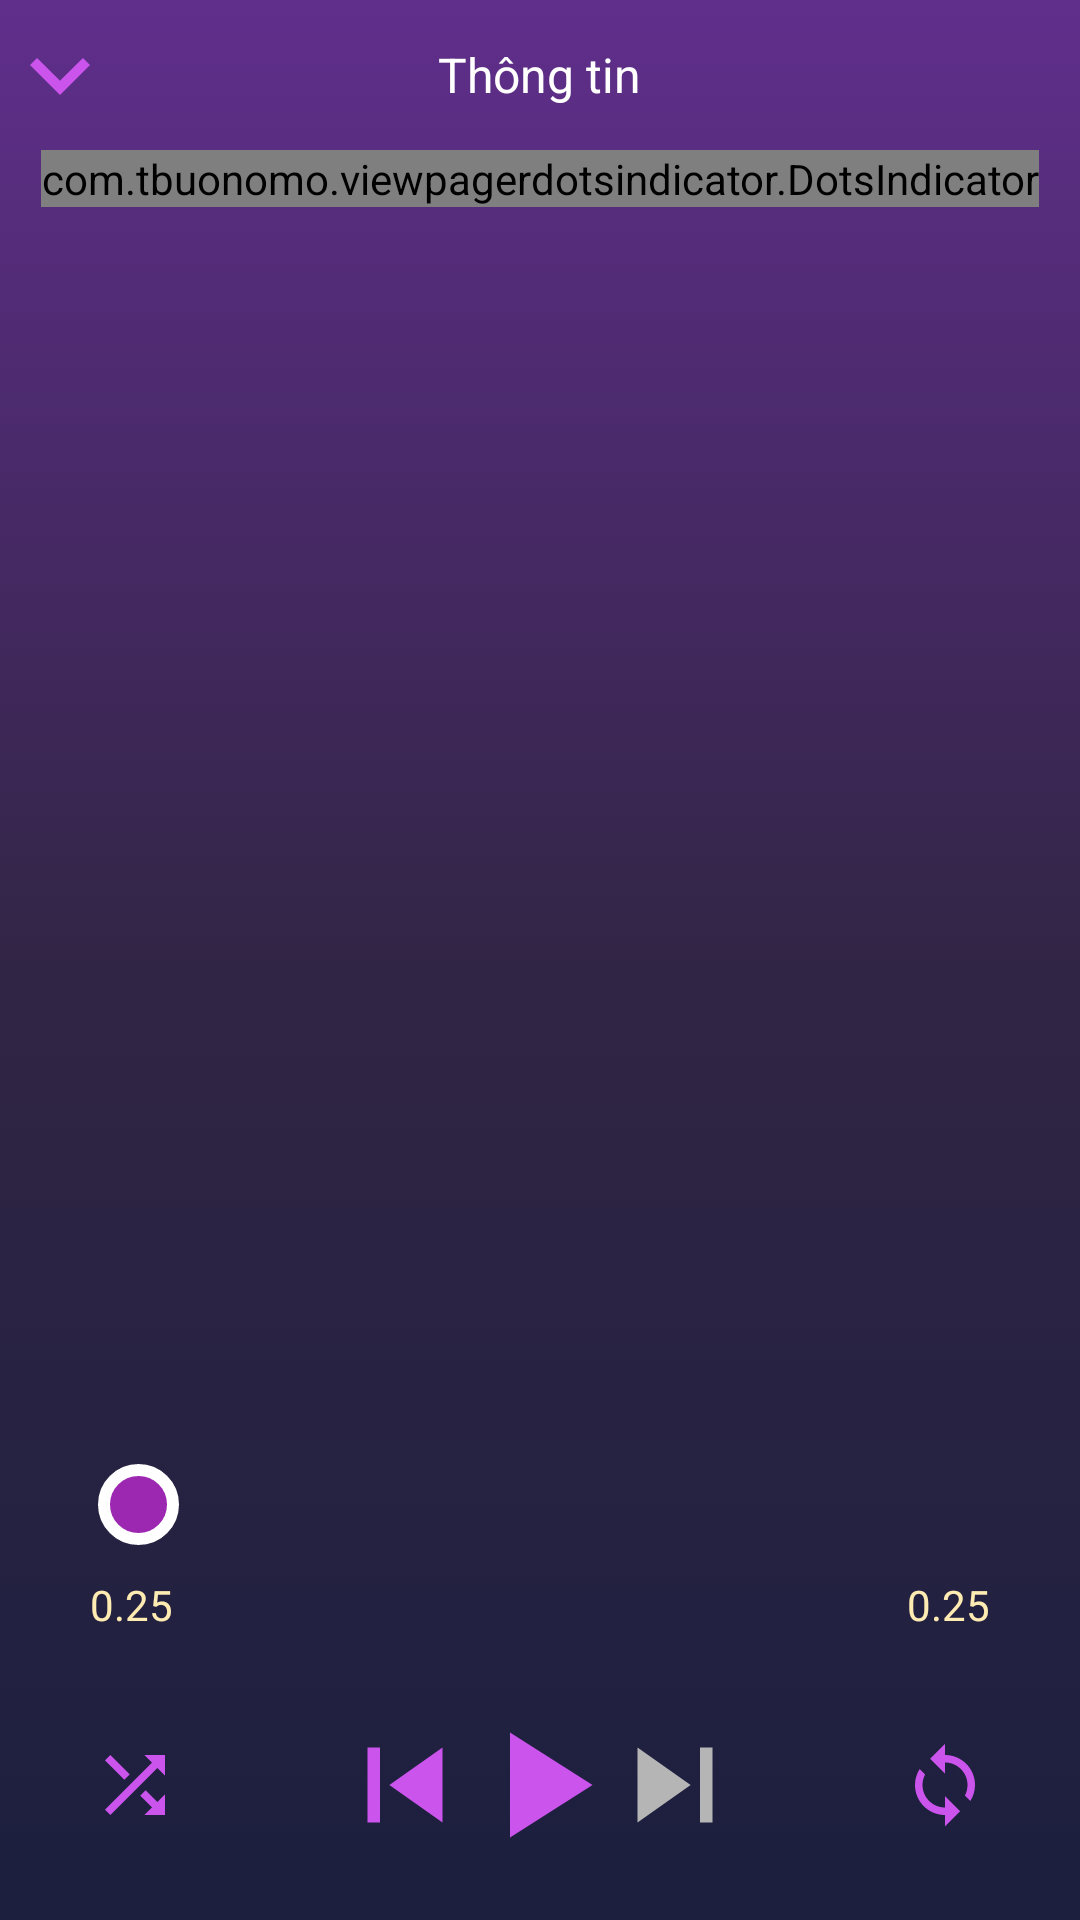

Screen size 1080*1920. Icon name, then its center in pixels as point (x, y):
keyboard arrow down: point (60, 76)
loop: point (945, 1785)
play arrow: point (551, 1785)
shuffle: point (135, 1785)
skip next: point (675, 1785)
skip previous: point (405, 1785)
